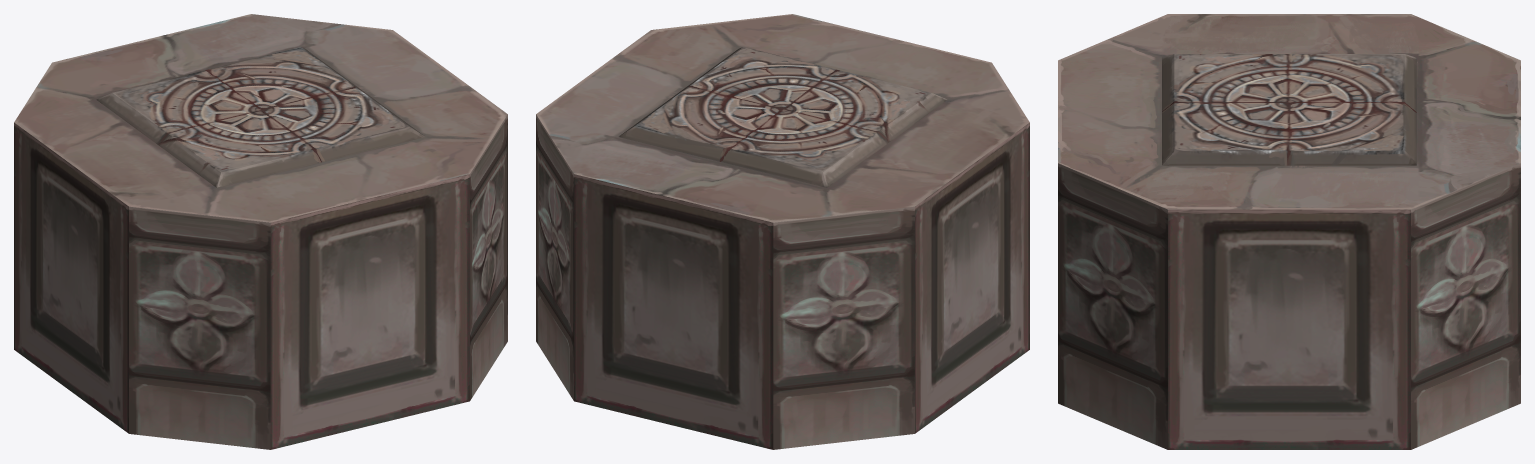
Rendered from TD_TowerplatformWater.obj.
3 views of the same model, side by side, from view 1: azimuth 30°, elevation 25°; view 2: azimuth 150°, elevation 25°; view 3: azimuth 270°, elevation 25° (orthographic). The views are drawn at different scales.
Parts seen in each view (by area): view 1: pCube9; view 2: pCube9; view 3: pCube9.
Part boxes in pixels (<box>): pCube9: <box>14,14,507,449</box>; pCube9: <box>536,14,1029,449</box>; pCube9: <box>1058,14,1520,449</box>.
Bounding box in the file's own units: 4.02 × 2.39 × 4.02.
